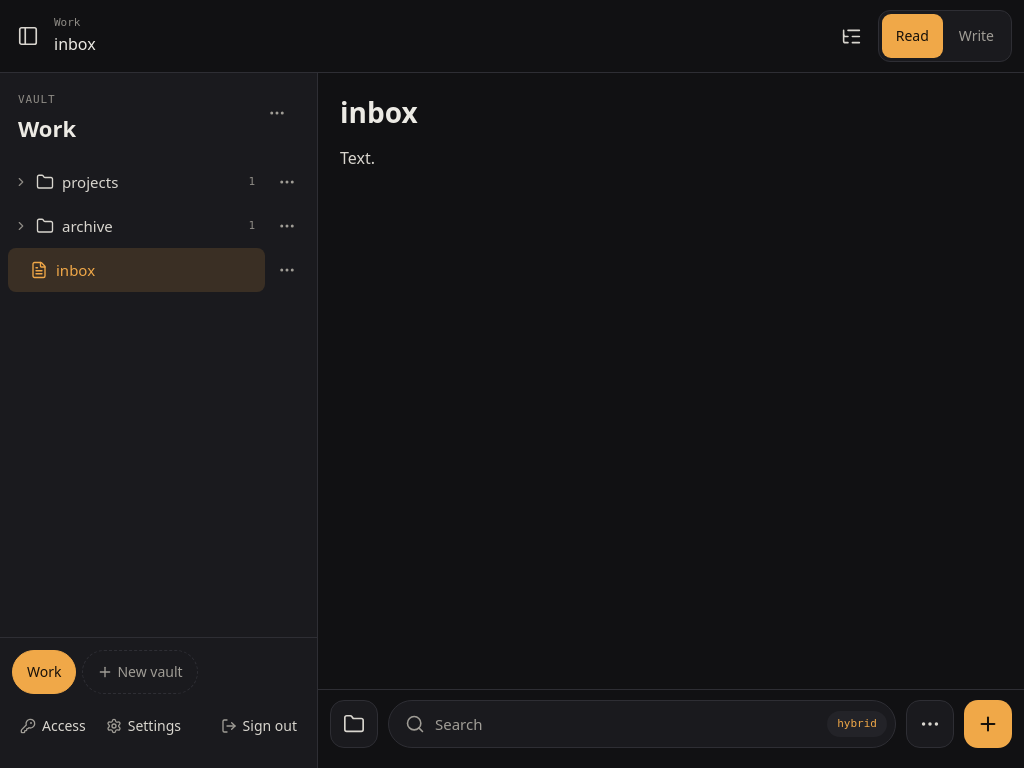
Test: Rename or move › mounts the dialog inside the tap, its name field focused, for iOS to raise the keyboard
The width and height of the screenshot is (1024, 768).
Click the button named "Note actions": [930, 724] box [906,700,954,748]
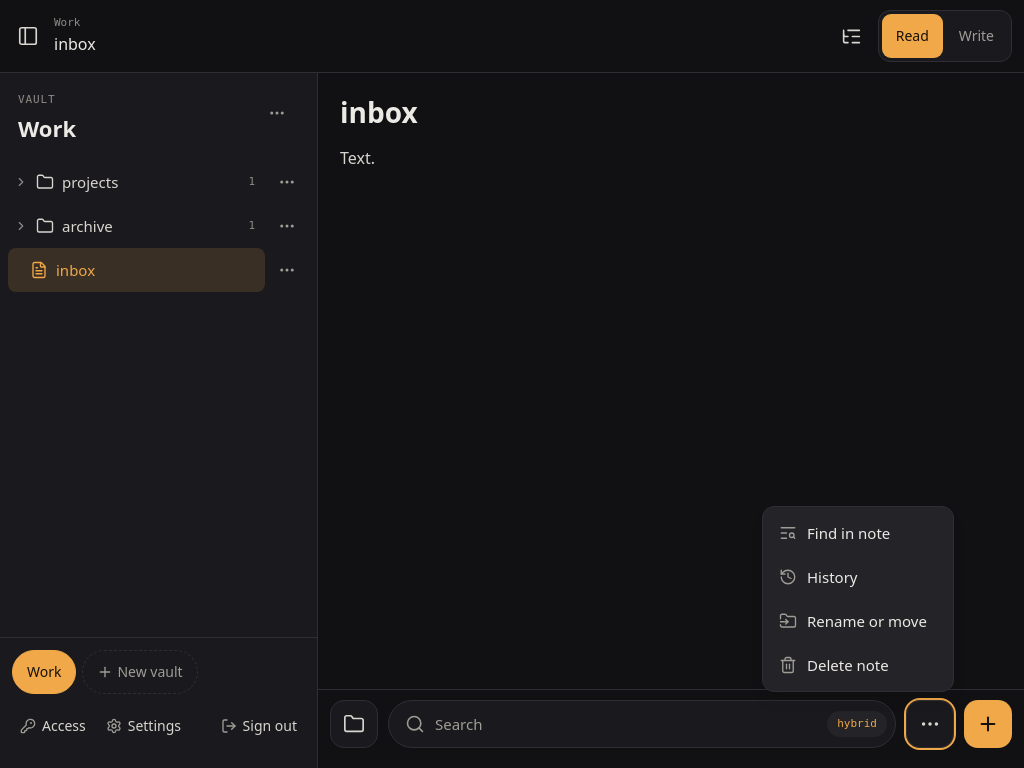
Click the menu item "Rename or move": [858, 621] box [767,599,949,643]
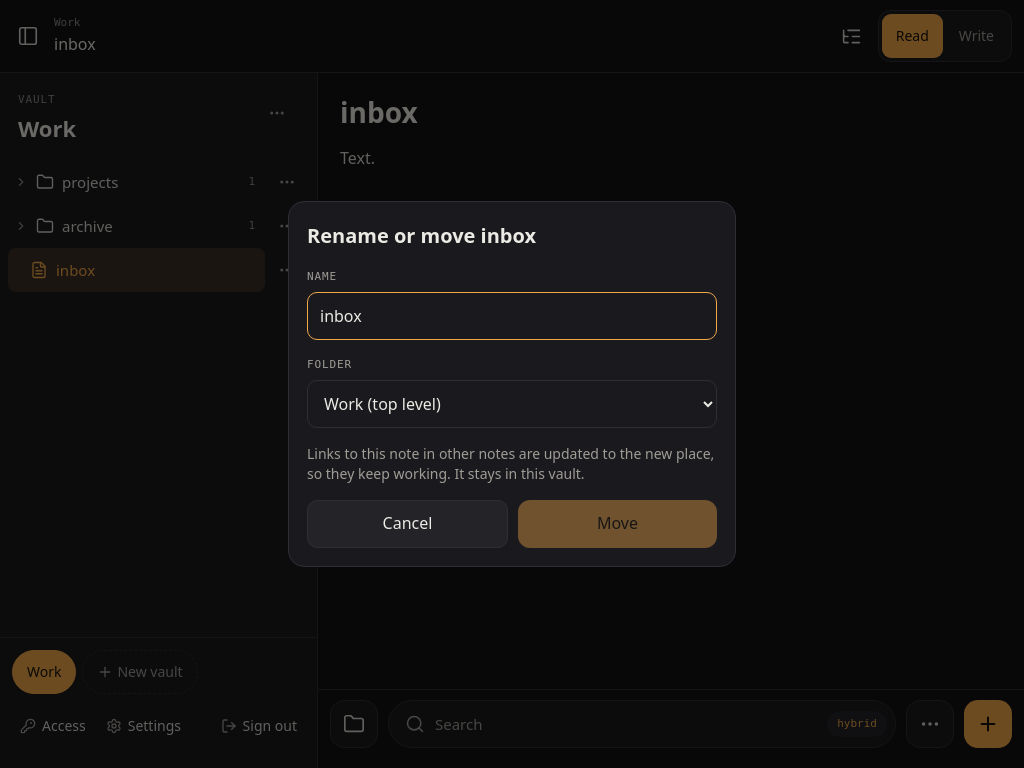
Now the dialog "Rename or move inbox" is shown, box [288,201,736,567]
